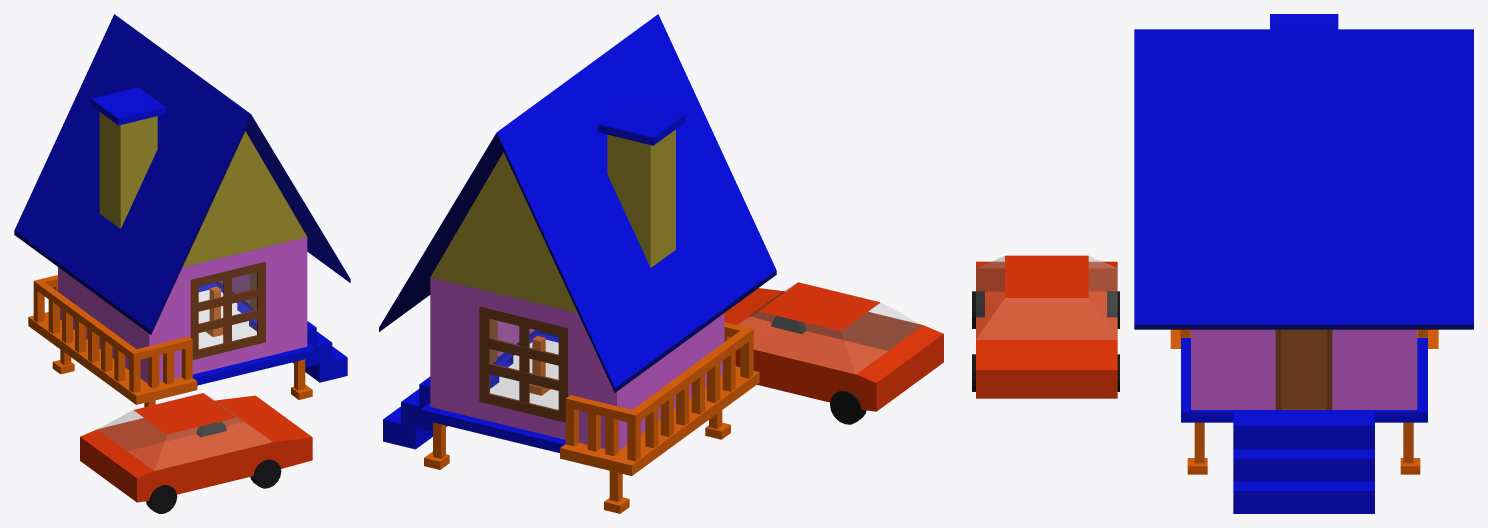
3 views of the same model, side by side, from view 1: azimuth 30°, elevation 25°; view 2: azimuth 150°, elevation 25°; view 3: azimuth 270°, elevation 25° (orthographic). The views are drawn at different scales.
Parts seen in each view (by area): view 1: building_003, car, Cube, taiya, food; view 2: building_003, car, Cube, food, taiya; view 3: building_003, car, food, Cube, taiya.
Boxes of the visible parts, left/top/right/bottom form: building_003: left=14, top=14, right=350, bottom=404; car: left=80, top=393, right=312, bottom=502; Cube: left=91, top=87, right=165, bottom=228; taiya: left=146, top=421, right=281, bottom=513; food: left=52, top=286, right=312, bottom=407; building_003: left=379, top=14, right=776, bottom=475; car: left=724, top=282, right=943, bottom=411; Cube: left=597, top=100, right=685, bottom=267; food: left=424, top=336, right=730, bottom=513; taiya: left=771, top=316, right=866, bottom=424; building_003: left=1134, top=29, right=1473, bottom=513; car: left=976, top=255, right=1117, bottom=398; food: left=1187, top=422, right=1420, bottom=474; Cube: left=1270, top=14, right=1338, bottom=29; taiya: left=972, top=291, right=1119, bottom=391.
Size of the model in its own units: 7.95 by 7.84 by 8.87.
